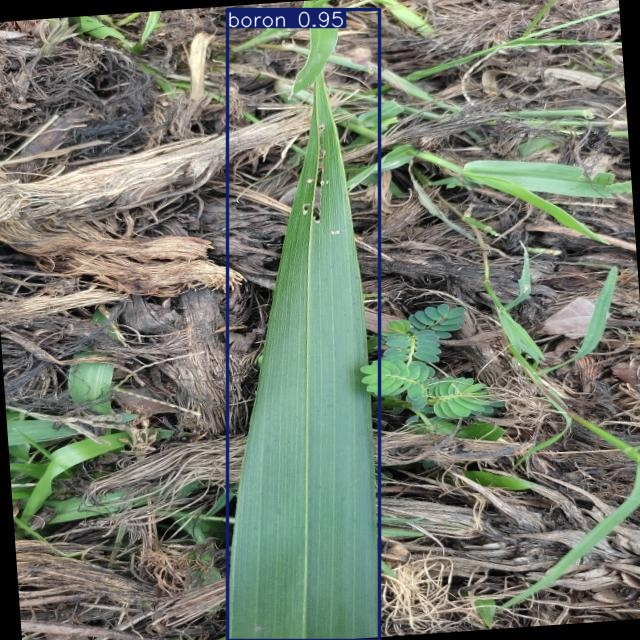nitrogen: (227, 10, 380, 640)
